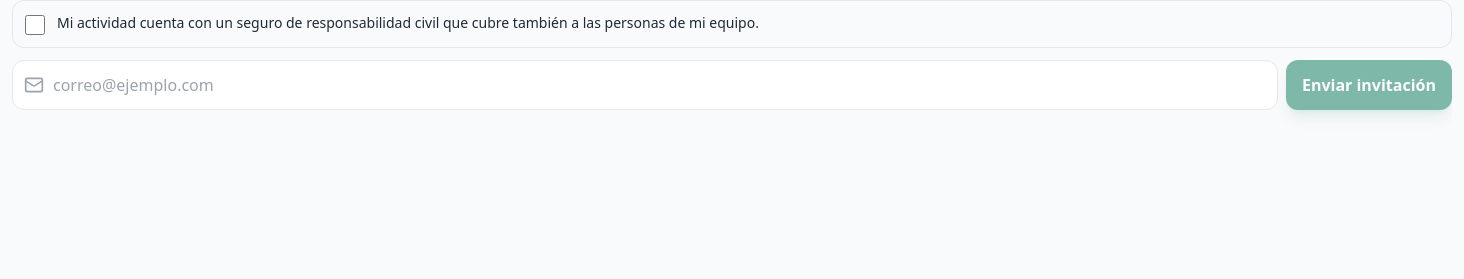
Test: InviteMemberCard › la primera invitación de un profesional individual (D35) › manda la declaración al servidor y, tras enviar, avisa de que su cuenta no cambia hasta que acepte
The image size is (1464, 279).
Type "ana@correo.com" into the field named "Correo de la persona" at (645, 85), box [12,60,1278,110]
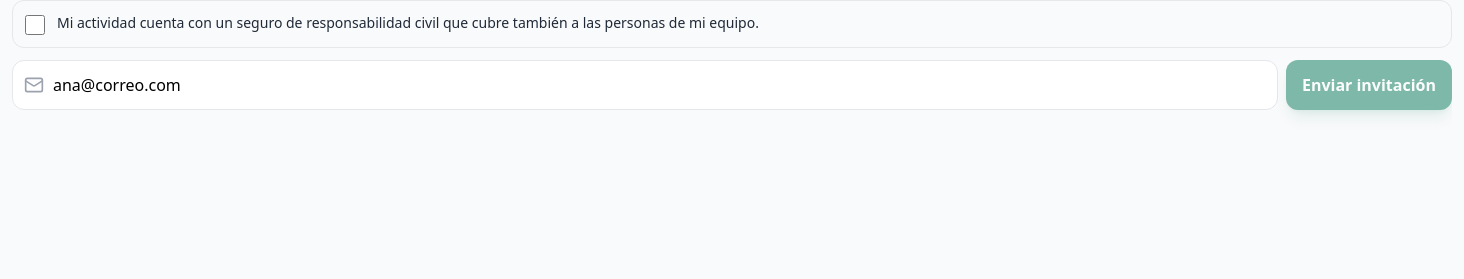
Click the checkbox named "Mi actividad cuenta con un seguro de responsabilidad civil que cubre también a las personas de mi equipo." at (35, 25), box [25,15,45,35]
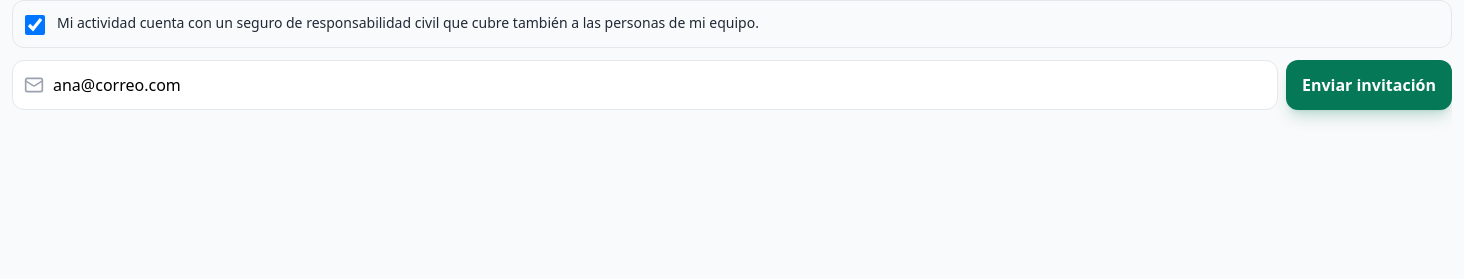
Click the button "Enviar invitación" at (1369, 85), box [1286,60,1452,110]
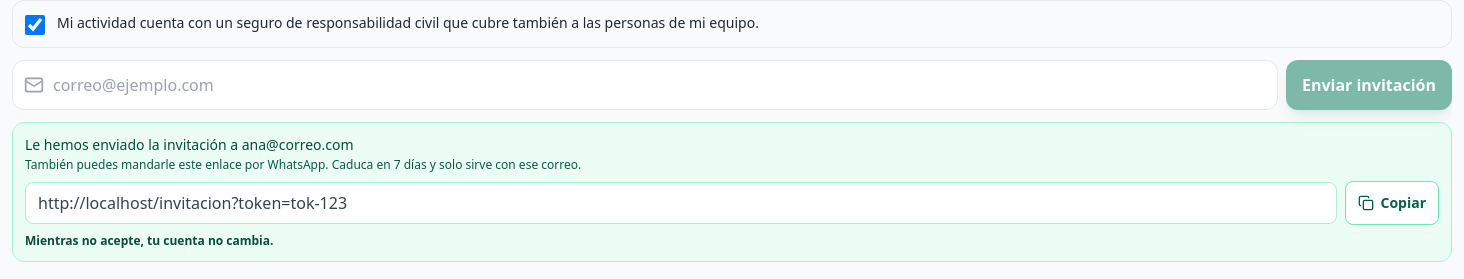
Expected: the text "Mientras no acepte, tu cuenta no cambia." is shown, [25,232,274,249]
